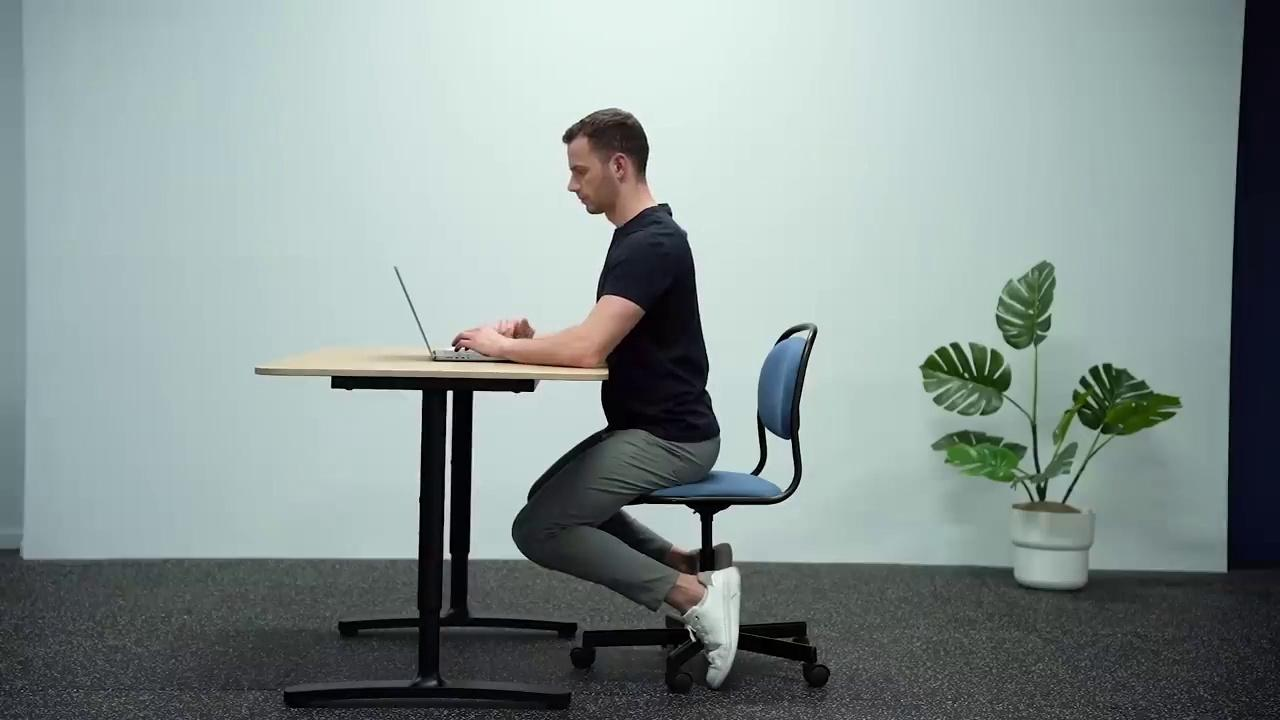GoodPosture: (452, 108, 738, 687)
